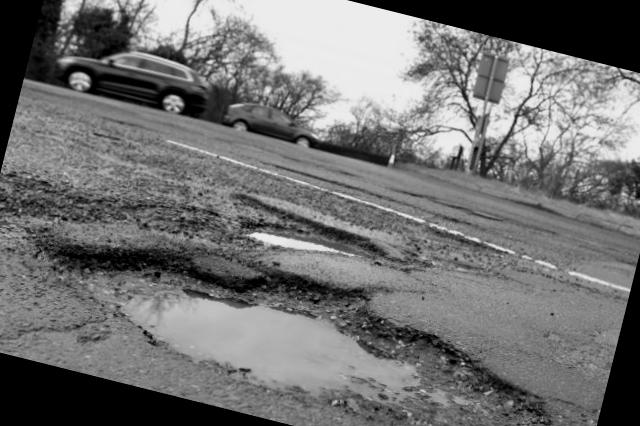Pothole: (0, 195, 569, 426), (221, 175, 423, 294)
